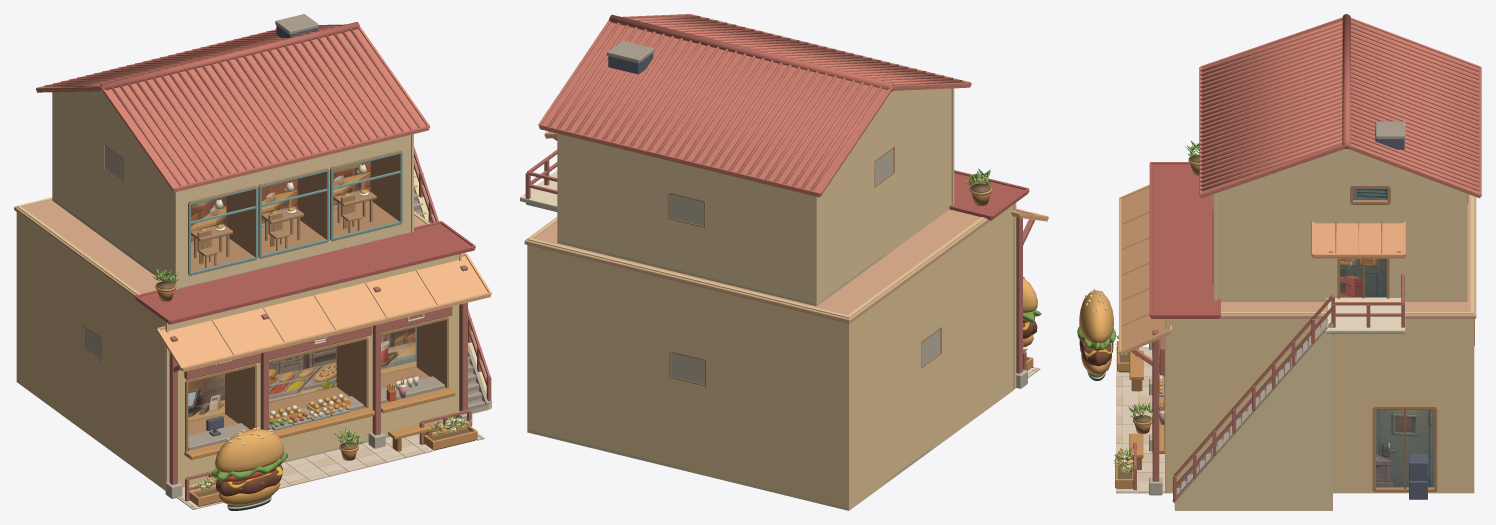
Rendered from 27-A-3bdd3f4b5be8.glb.
3 views of the same model, side by side, from view 1: azimuth 30°, elevation 25°; view 2: azimuth 150°, elevation 25°; view 3: azimuth 270°, elevation 25° (orthographic). The views are drawn at different scales.
Visible parts, largest first — view 1: SM_27_02_曲面屋顶, SM_27_01_建筑墙体, SM_27_04_门窗楼梯, SM_27_06_景观设施, SM_27_03_木构回廊, SM_27_06_门前充气招牌, SM_27_06_院内及专用铺地, SM_27_05_景观植物; view 2: SM_27_01_建筑墙体, SM_27_02_曲面屋顶, SM_27_04_门窗楼梯, SM_27_03_木构回廊, SM_27_06_景观设施, SM_27_06_门前充气招牌, SM_27_05_景观植物; view 3: SM_27_01_建筑墙体, SM_27_02_曲面屋顶, SM_27_03_木构回廊, SM_27_04_门窗楼梯, SM_27_06_院内及专用铺地, SM_27_06_景观设施, SM_27_06_门前充气招牌, SM_27_05_景观植物.
Boxes of the visible parts, left/top/right/bottom form: SM_27_02_曲面屋顶: left=36, top=22, right=491, bottom=372; SM_27_01_建筑墙体: left=14, top=91, right=458, bottom=490; SM_27_04_门窗楼梯: left=82, top=145, right=491, bottom=501; SM_27_06_景观设施: left=188, top=14, right=444, bottom=451; SM_27_03_木构回廊: left=165, top=134, right=491, bottom=498; SM_27_06_门前充气招牌: left=211, top=427, right=287, bottom=510; SM_27_06_院内及专用铺地: left=177, top=190, right=488, bottom=509; SM_27_05_景观植物: left=152, top=268, right=477, bottom=506; SM_27_01_建筑墙体: left=520, top=88, right=1014, bottom=510; SM_27_02_曲面屋顶: left=538, top=14, right=1048, bottom=221; SM_27_04_门窗楼梯: left=525, top=146, right=1034, bottom=387; SM_27_03_木构回廊: left=552, top=88, right=1027, bottom=388; SM_27_06_景观设施: left=607, top=40, right=654, bottom=74; SM_27_06_门前充气招牌: left=1023, top=276, right=1041, bottom=347; SM_27_05_景观植物: left=965, top=168, right=1033, bottom=370; SM_27_01_建筑墙体: left=1166, top=149, right=1476, bottom=493; SM_27_02_曲面屋顶: left=1119, top=14, right=1481, bottom=355; SM_27_03_木构回廊: left=1149, top=193, right=1401, bottom=510; SM_27_04_门窗楼梯: left=1121, top=185, right=1474, bottom=503; SM_27_06_院内及专用铺地: left=1116, top=334, right=1333, bottom=509; SM_27_06_景观设施: left=1129, top=121, right=1427, bottom=499; SM_27_06_门前充气招牌: left=1077, top=288, right=1115, bottom=380; SM_27_05_景观植物: left=1113, top=141, right=1199, bottom=488.
Bounding box in the file's own units: 11.13 × 10.48 × 11.12.
54 materials, 1 textured.
